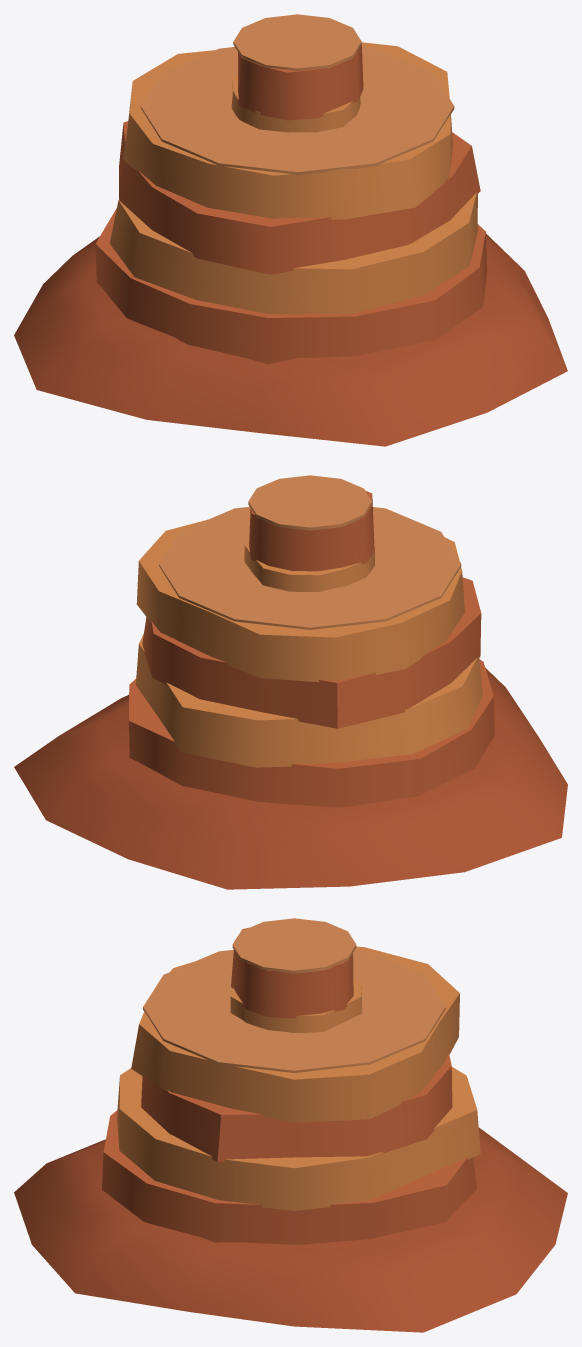
The model's file is canyon.glb.
3 renders of one model, top to bottom at view 1: azimuth 30°, elevation 25°; view 2: azimuth 150°, elevation 25°; view 3: azimuth 270°, elevation 25°, orthographic. The views are drawn at different scales.
Parts seen in each view (by area): view 1: mesa_a, mesa_b; view 2: mesa_a, mesa_b; view 3: mesa_a, mesa_b.
Part boxes in pixels (x1,y1,x2,y2): mesa_a: (14,42,567,446); mesa_b: (231,14,363,132); mesa_a: (14,506,567,889); mesa_b: (244,475,374,591); mesa_a: (14,946,567,1332); mesa_b: (230,918,362,1032).
Size of the model in its own units: 64.97 by 35.52 by 64.44.
